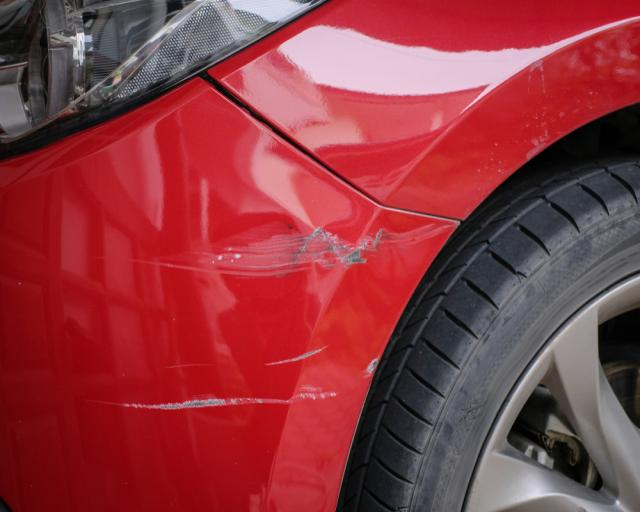scratch: (103, 341, 379, 413), (141, 219, 454, 277)
